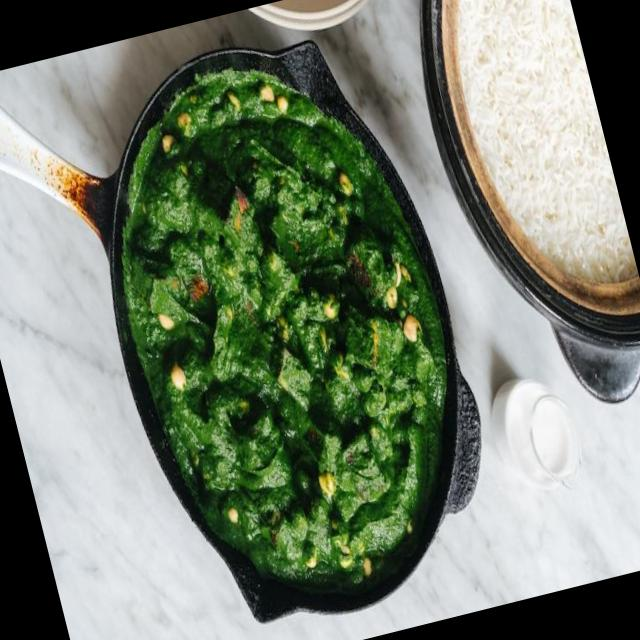rice: (461, 0, 626, 249)
